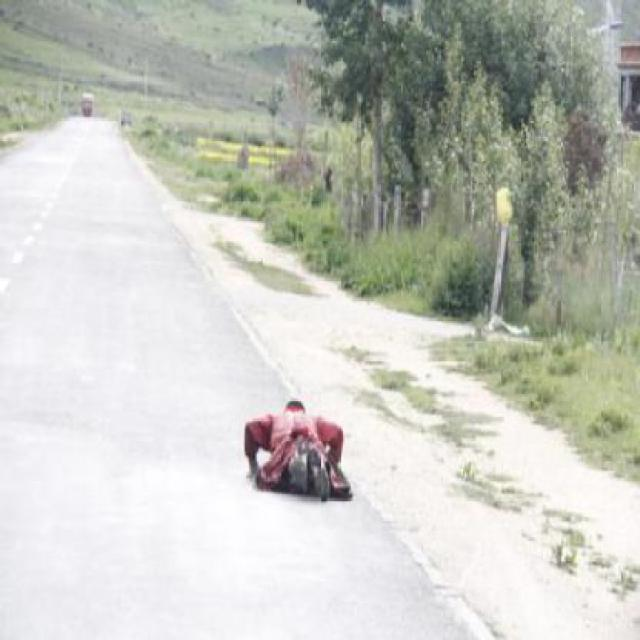fall: (234, 381, 354, 508)
